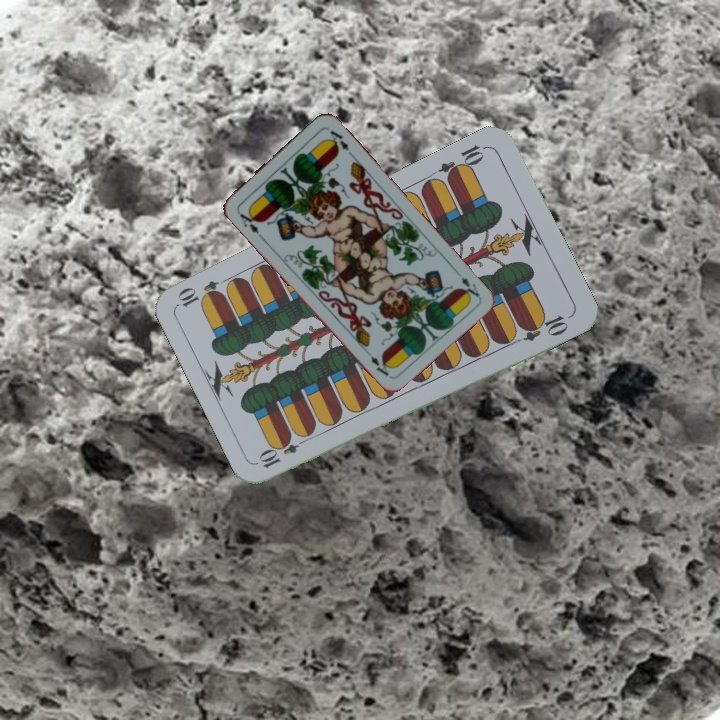E10: (435, 140, 490, 183), (255, 432, 311, 471)
EA: (233, 206, 265, 240), (457, 273, 482, 302)
